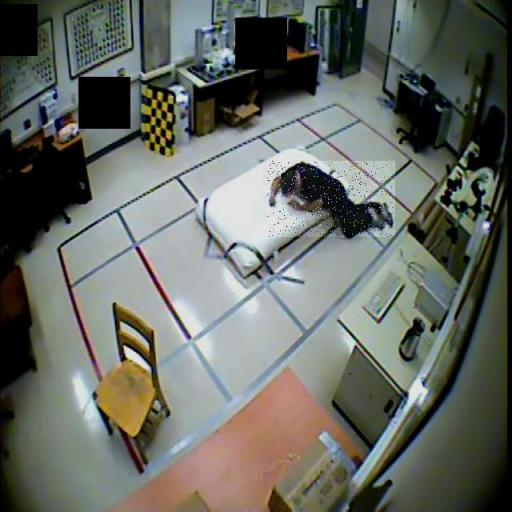Fall: (267, 161, 395, 237)
